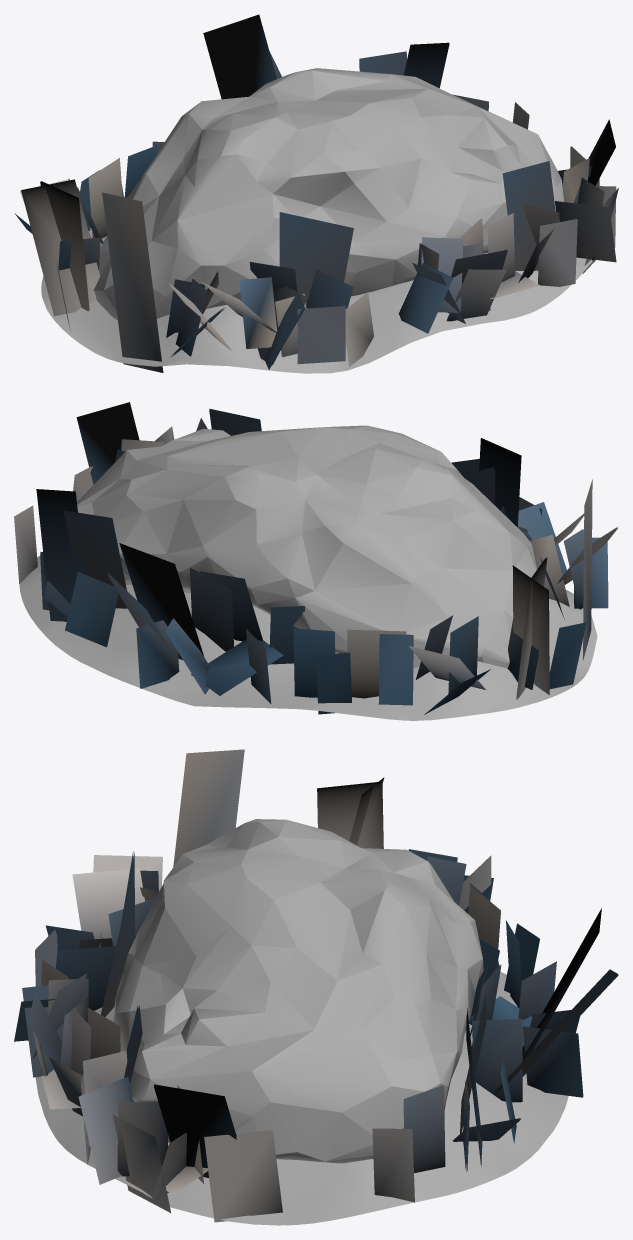
Rendered from FeatureLongRock.fbx.
3 renders of one model, top to bottom at view 1: azimuth 30°, elevation 25°; view 2: azimuth 150°, elevation 25°; view 3: azimuth 270°, elevation 25°, orthographic. The views are drawn at different scales.
Visible parts, largest first — view 1: FeatureLongRock, FeatureLongRockGrass, FeatureLongTallGrass, FeatureLongMud; view 2: FeatureLongRock, FeatureLongRockGrass, FeatureLongTallGrass, FeatureLongMud; view 3: FeatureLongRock, FeatureLongRockGrass, FeatureLongTallGrass, FeatureLongMud.
Part boxes in pixels (left/top/right/bottom): FeatureLongRock: left=93, top=68, right=563, bottom=320; FeatureLongRockGrass: left=14, top=94, right=618, bottom=369; FeatureLongTallGrass: left=21, top=14, right=615, bottom=372; FeatureLongMud: left=41, top=228, right=592, bottom=373; FeatureLongRock: left=77, top=425, right=537, bottom=668; FeatureLongRockGrass: left=14, top=418, right=617, bottom=714; FeatureLongTallGrass: left=36, top=402, right=592, bottom=699; FeatureLongMud: left=19, top=556, right=597, bottom=720; FeatureLongRock: left=113, top=819, right=483, bottom=1163; FeatureLongRockGrass: left=14, top=849, right=583, bottom=1222; FeatureLongTallGrass: left=100, top=749, right=618, bottom=1178; FeatureLongMud: left=35, top=971, right=568, bottom=1225.
Size of the model in its own units: 227 by 77.24 by 187.
